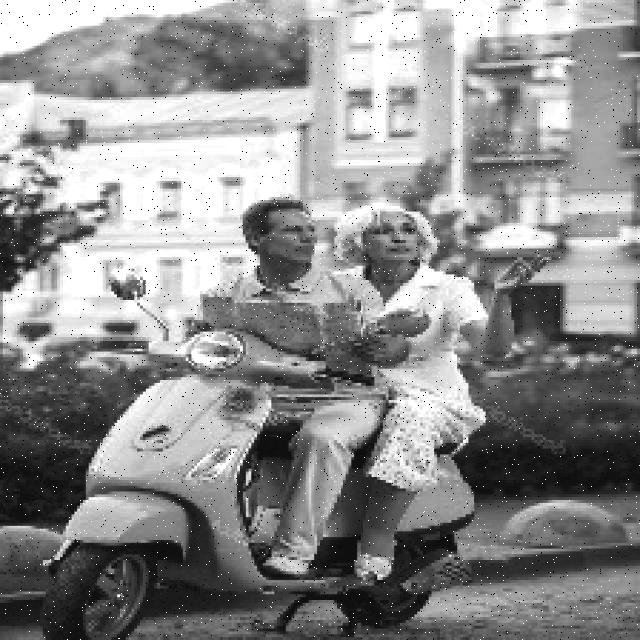Bike: (44, 333, 296, 620)
